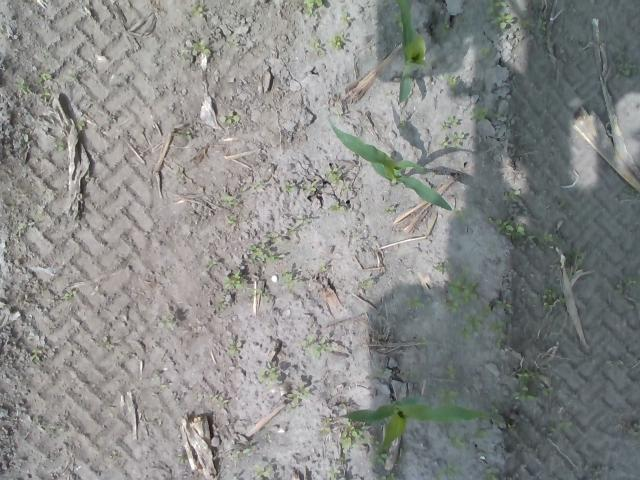Maize: (325, 112, 452, 213), (330, 399, 482, 450), (396, 0, 432, 106)
Weeds: (434, 261, 514, 349), (493, 216, 556, 243), (514, 370, 560, 403), (484, 0, 532, 31), (249, 232, 286, 263), (286, 382, 312, 408), (326, 168, 351, 194), (341, 422, 366, 446), (304, 334, 329, 358), (542, 286, 568, 308), (432, 386, 460, 406), (224, 192, 238, 225), (499, 186, 524, 204), (546, 418, 574, 434), (442, 360, 460, 384), (370, 438, 386, 465), (379, 367, 418, 378), (256, 367, 278, 386), (446, 432, 466, 452), (190, 40, 213, 57), (436, 464, 460, 480), (404, 294, 426, 311), (15, 76, 32, 98), (218, 110, 240, 126), (252, 465, 275, 480), (438, 116, 461, 130), (616, 54, 632, 74), (471, 108, 491, 123), (302, 0, 322, 15), (222, 272, 240, 288), (280, 270, 294, 290), (327, 33, 342, 49), (622, 276, 638, 290), (448, 132, 464, 146), (338, 11, 352, 27), (318, 418, 332, 434), (446, 74, 461, 88), (159, 315, 174, 329), (535, 18, 549, 33), (190, 5, 206, 18), (310, 36, 320, 56), (208, 392, 224, 404), (205, 256, 219, 269), (28, 349, 42, 362), (392, 12, 402, 30), (324, 469, 338, 480), (282, 180, 293, 194), (327, 203, 344, 212), (439, 22, 451, 34), (38, 71, 50, 83), (40, 92, 52, 104), (381, 206, 395, 216), (477, 429, 489, 440), (437, 137, 448, 149), (76, 120, 87, 132), (177, 454, 190, 464), (380, 471, 394, 480), (179, 130, 191, 140), (58, 142, 68, 154), (229, 344, 238, 356), (486, 472, 499, 480), (62, 293, 72, 302)
